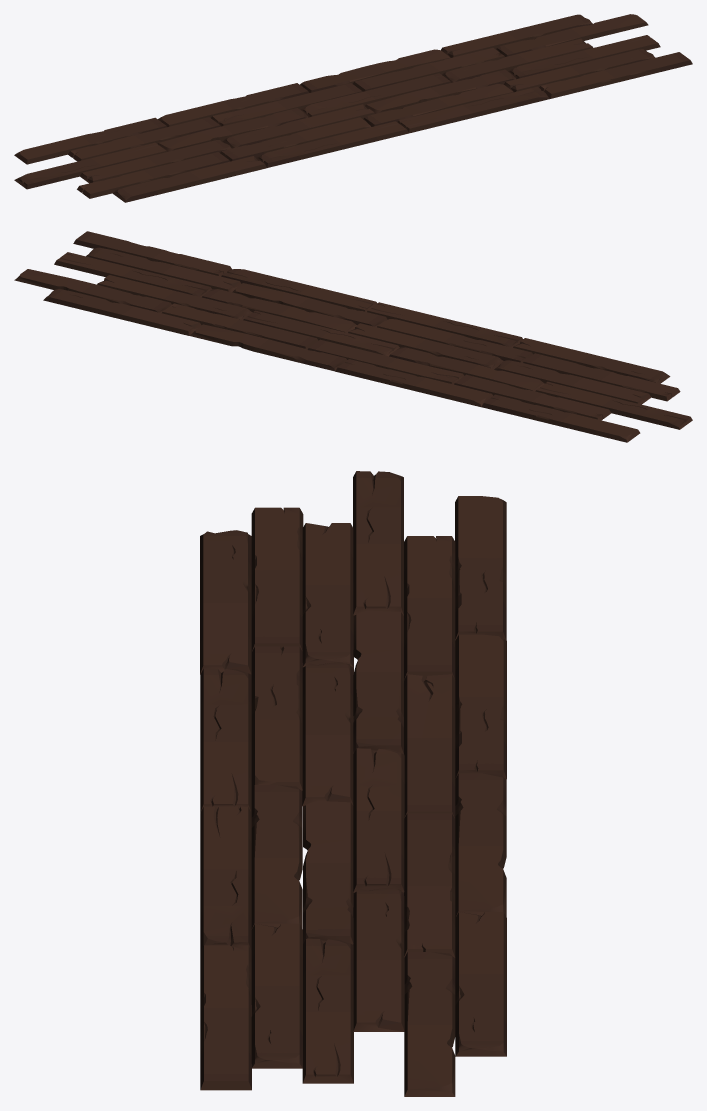
Rendered from SM_counterTop.fbx.
The picture shows the model from 3 angles, top to bottom: view 1: azimuth 30°, elevation 25°; view 2: azimuth 150°, elevation 25°; view 3: azimuth 270°, elevation 25°; orthographic projection. The views are drawn at different scales.
Visible parts, largest first — view 1: SM_counterTop; view 2: SM_counterTop; view 3: SM_counterTop.
Part boxes in pixels (x1,y1,x2,y2): SM_counterTop: (14, 14, 692, 202); SM_counterTop: (14, 231, 692, 442); SM_counterTop: (200, 471, 506, 1096).
Size of the model in its own units: 569 by 3.49 by 119.
